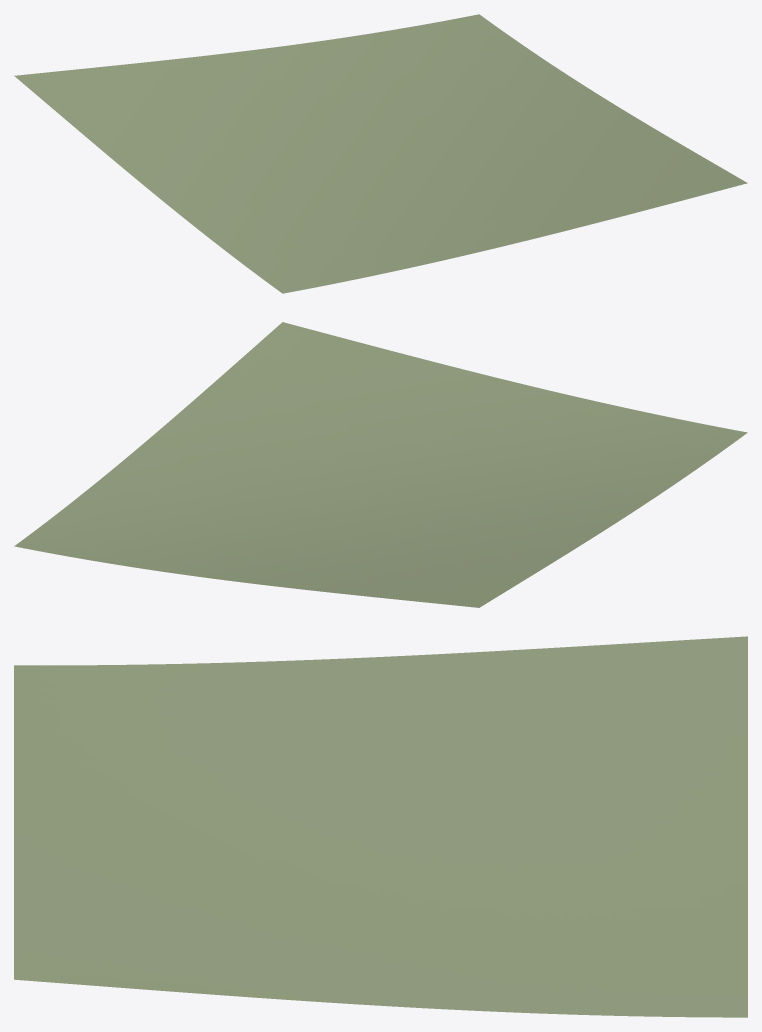
Rendered from alpine-0-15.glb.
3 renders of one model, top to bottom at view 1: azimuth 30°, elevation 25°; view 2: azimuth 150°, elevation 25°; view 3: azimuth 270°, elevation 25°, orthographic. The views are drawn at different scales.
Visible parts, largest first — view 1: alpine-0-15; view 2: alpine-0-15; view 3: alpine-0-15.
Boxes of the visible parts, box(x1,y1,x2,y2) form: alpine-0-15: box(14, 14, 747, 293); alpine-0-15: box(14, 322, 747, 607); alpine-0-15: box(14, 636, 747, 1017).
Size of the model in its own units: 256 by 27.31 by 256.
